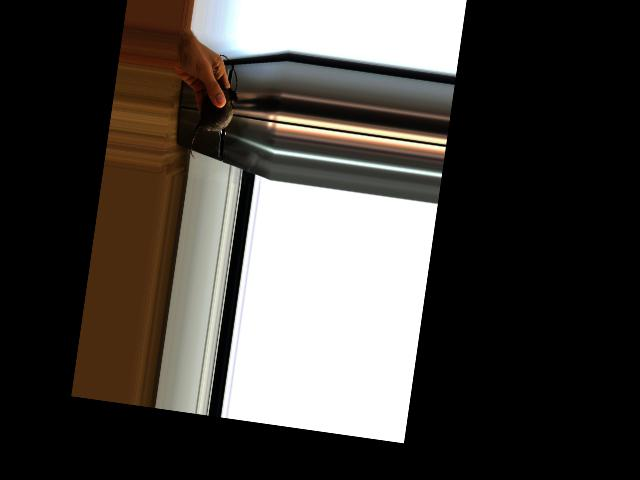beet: (188, 52, 242, 164)
